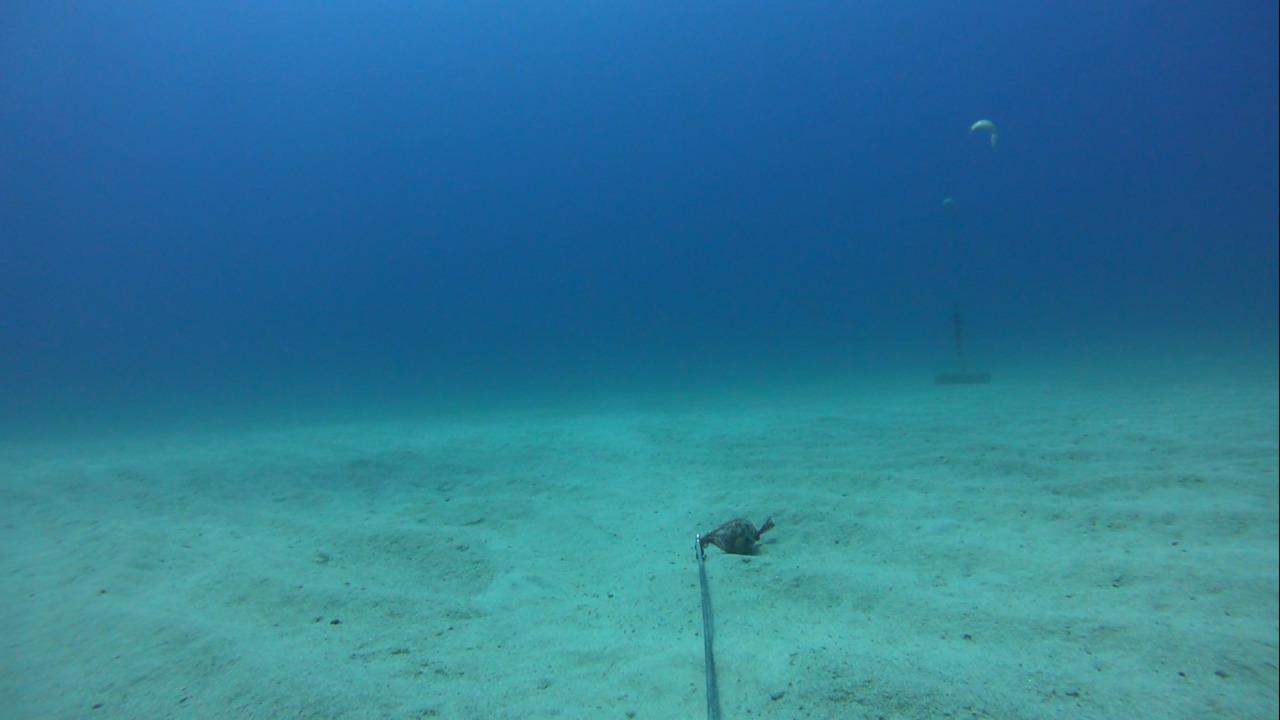raor: (960, 108, 1008, 159)
